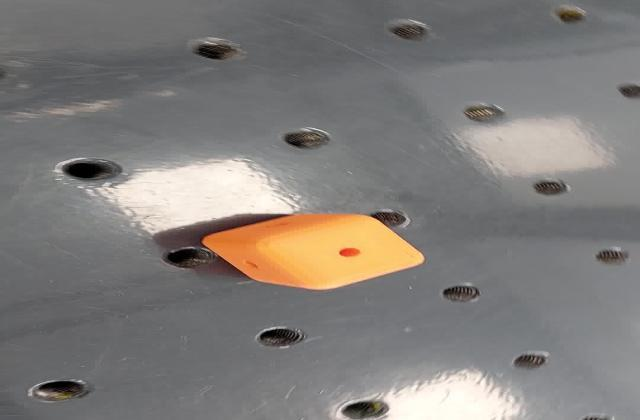cube: (192, 210, 432, 292)
